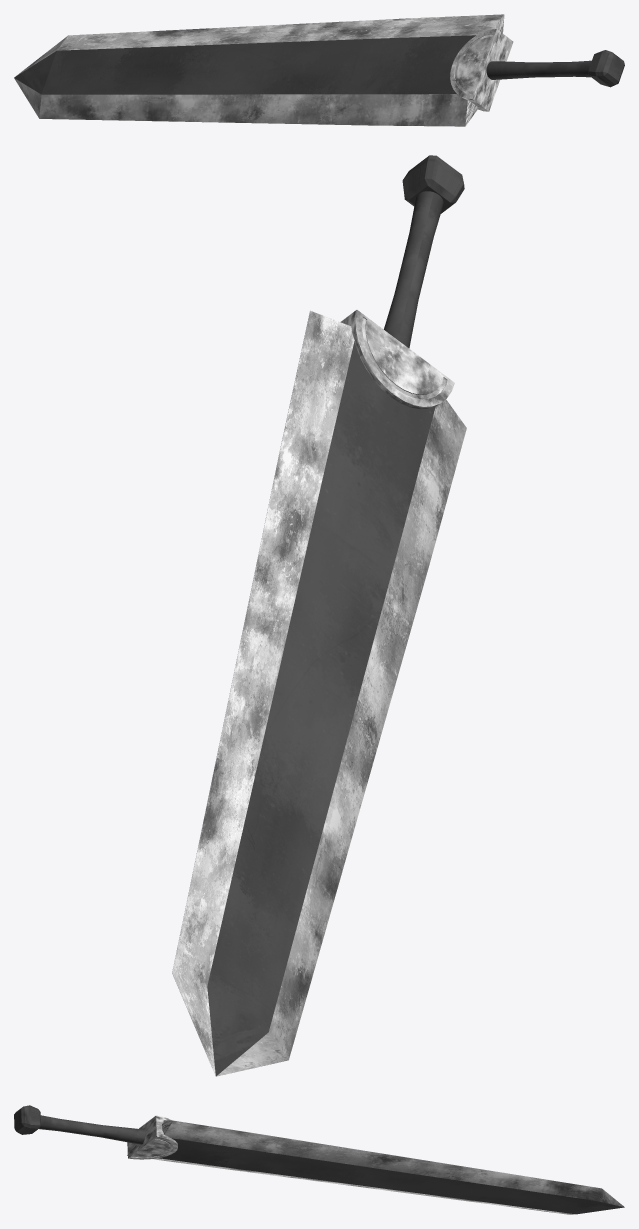
File: dragon_slayer__guts_sword.glb
3 renders of one model, top to bottom at view 1: azimuth 30°, elevation 25°; view 2: azimuth 150°, elevation 25°; view 3: azimuth 270°, elevation 25°, orthographic. The views are drawn at different scales.
Parts seen in each view (by area): view 1: Cube_0, Cylinder.001_3, Cylinder_1, Cube.001_2; view 2: Cube_0, Cylinder.001_3, Cylinder_1, Cube.001_2; view 3: Cube_0, Cylinder_1, Cylinder.001_3, Cube.001_2.
Part boxes in pixels (box(x1,y1,x2,y2)): Cube_0: box(14, 14, 504, 126); Cylinder.001_3: box(450, 29, 513, 111); Cylinder_1: box(486, 60, 591, 79); Cube.001_2: box(588, 50, 624, 87); Cube_0: box(172, 310, 466, 1076); Cylinder.001_3: box(340, 310, 454, 409); Cylinder_1: box(384, 191, 443, 348); Cube.001_2: box(402, 155, 464, 213); Cube_0: box(127, 1120, 624, 1214); Cylinder_1: box(39, 1115, 145, 1144); Cylinder.001_3: box(127, 1115, 177, 1159); Cube.001_2: box(14, 1105, 40, 1134).
Bounding box in the file's own units: 2.12 × 1.96 × 5.3.
2 materials, 2 textured.
